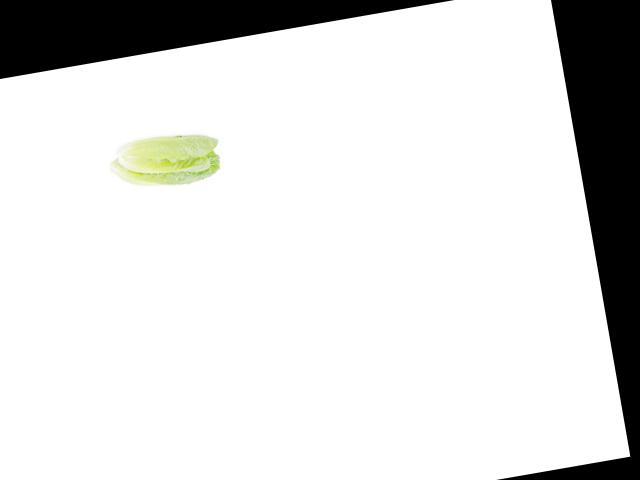lettuce: (105, 119, 225, 196)
